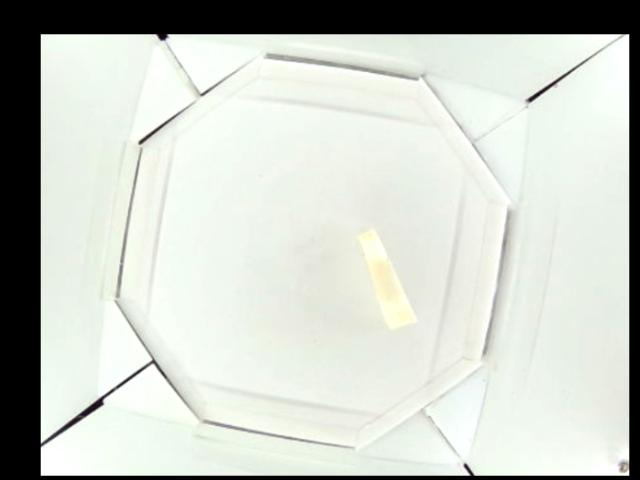Mooli: (357, 231, 417, 332)
